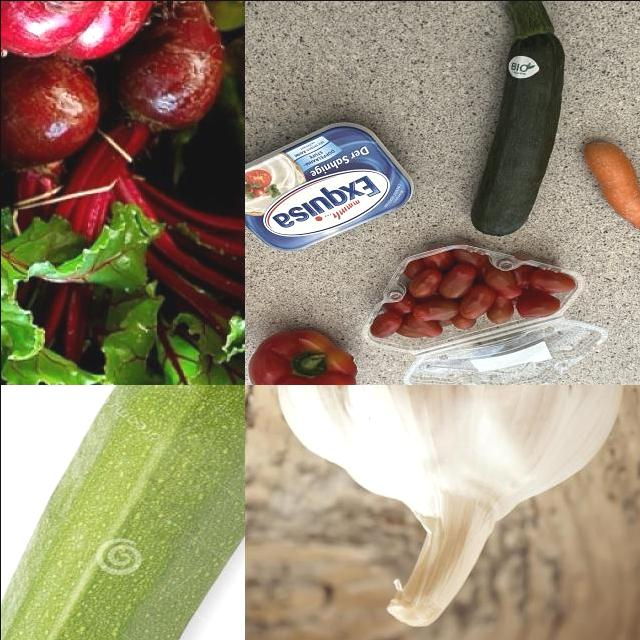beet: (1, 1, 219, 162)
bell_pepper: (245, 328, 364, 385)
carrot: (581, 137, 640, 260)
garlic: (276, 385, 632, 636)
tomato: (409, 271, 537, 318)
zucchini: (1, 385, 245, 640), (469, 1, 568, 244)
